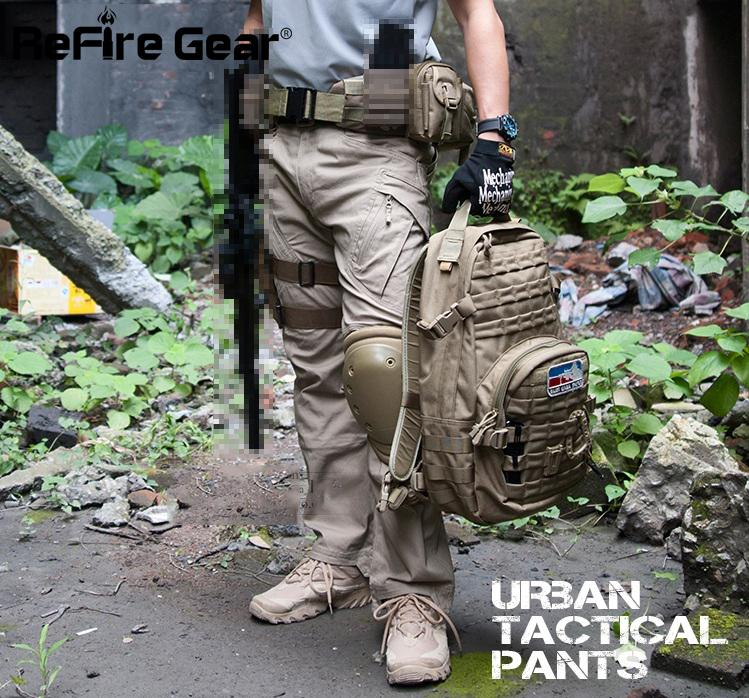pants: (264, 96, 453, 615)
